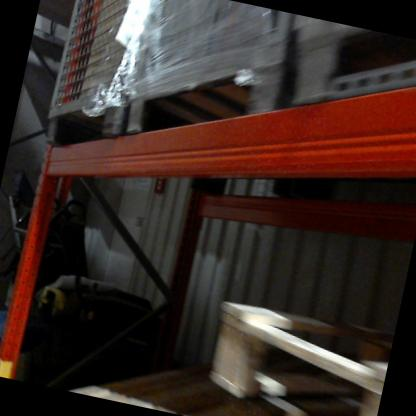pallet: (191, 279, 391, 416), (69, 325, 355, 416)
stillage: (116, 0, 296, 178), (30, 0, 151, 168), (278, 16, 416, 143)
